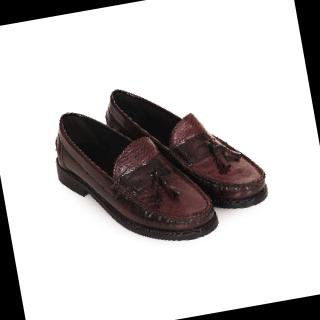loafers: (41, 60, 280, 266)
